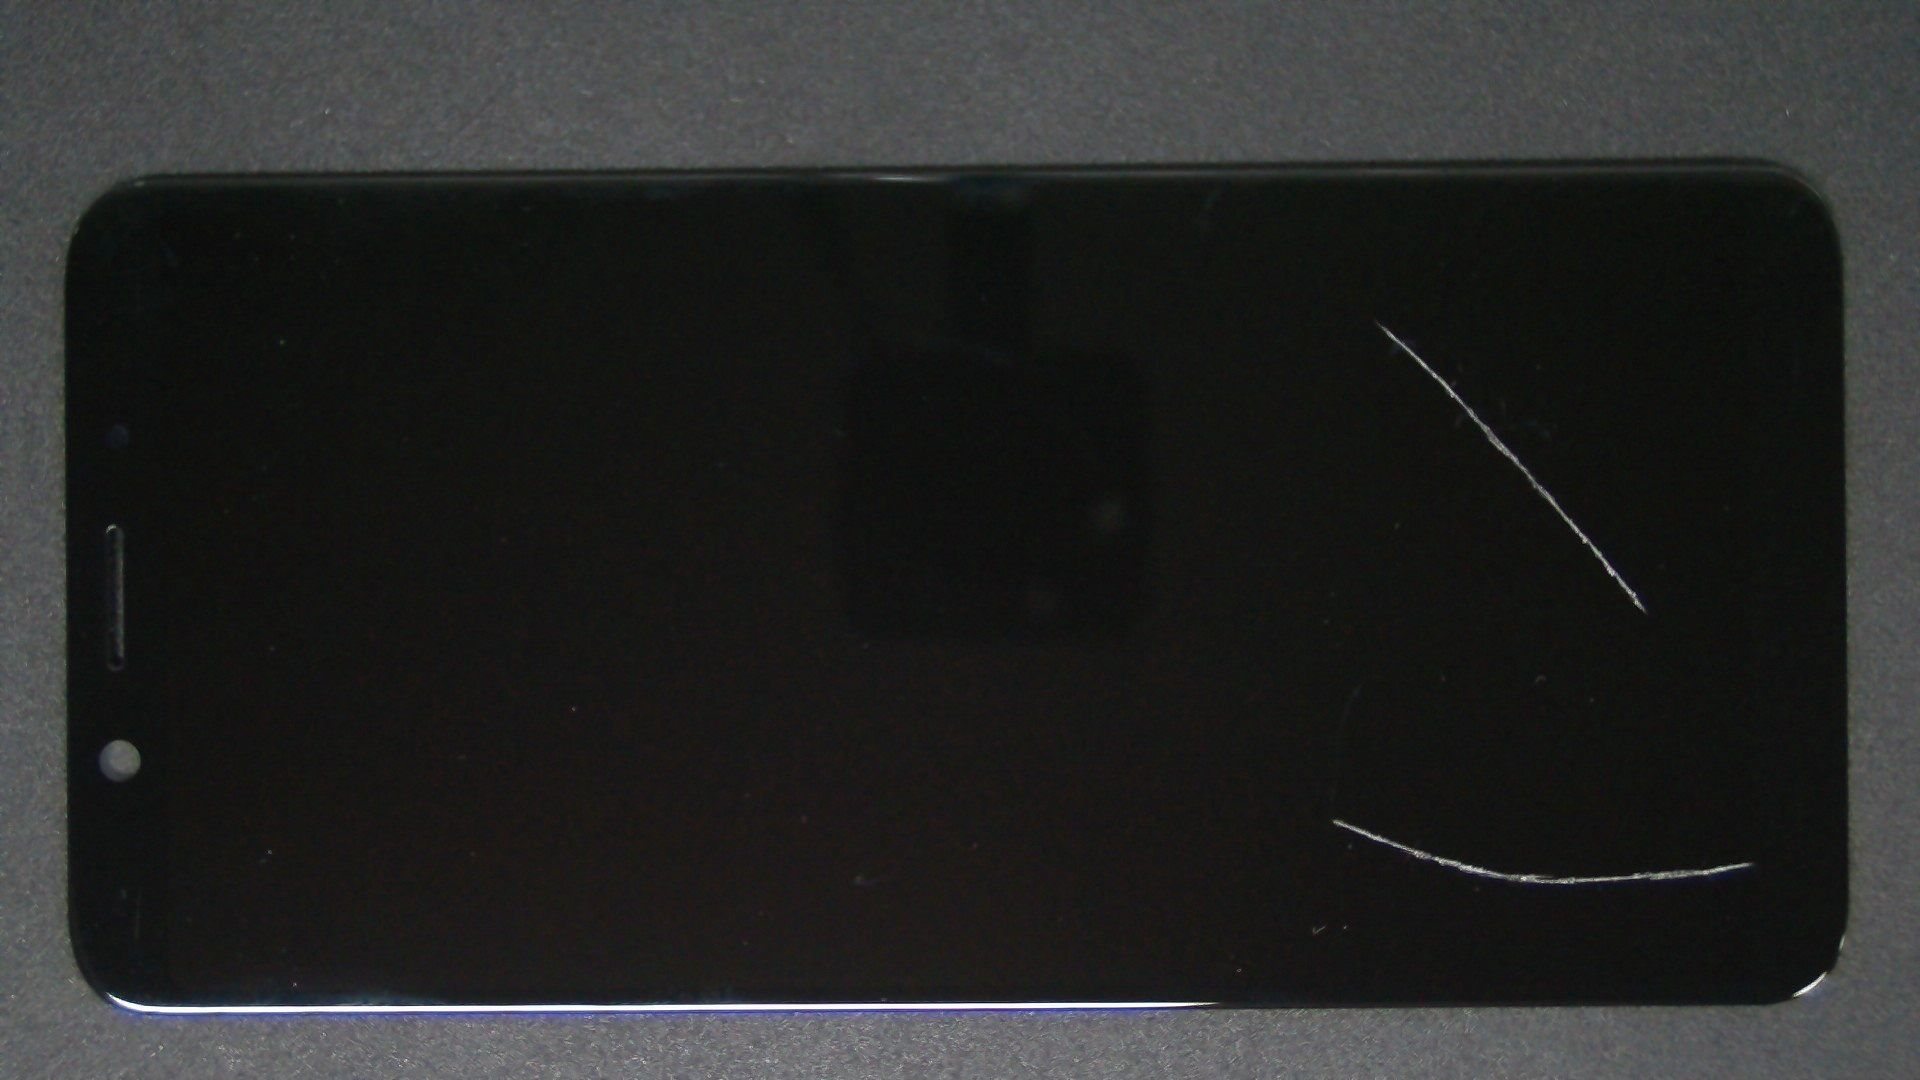oil: (669, 407, 1920, 1080), (688, 160, 1920, 483)
